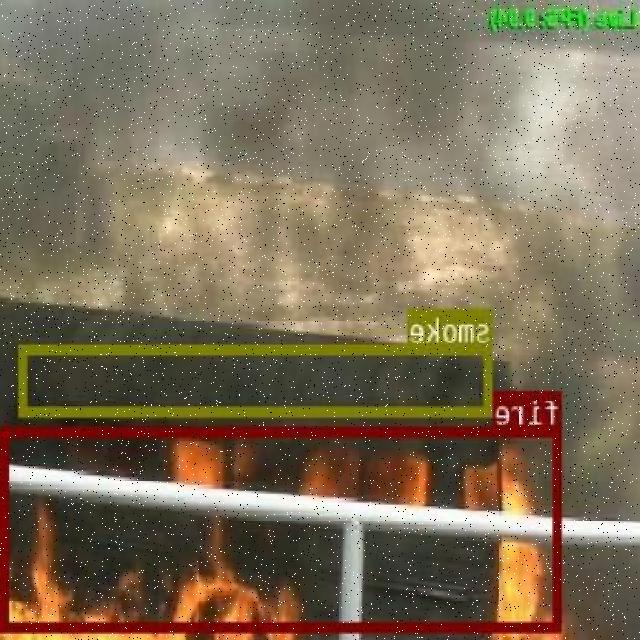smoke: (21, 343, 492, 414)
